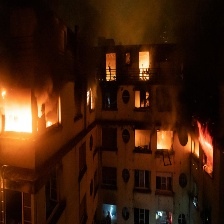fire: (1, 86, 49, 138), (196, 124, 216, 173), (137, 53, 154, 81), (152, 132, 172, 153)
smoke: (5, 1, 103, 80)
